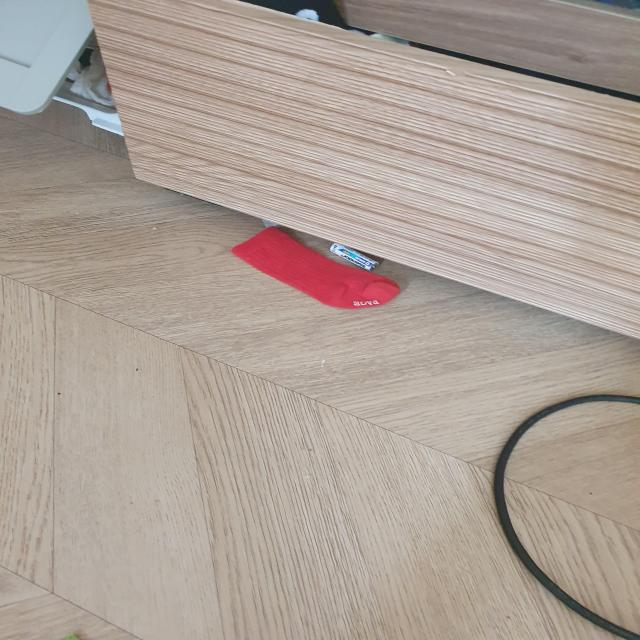litter: (330, 243, 379, 271)
